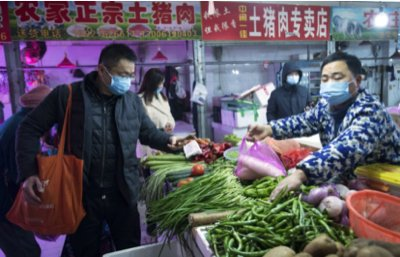mask: (319, 68, 356, 104), (107, 67, 136, 95), (286, 70, 300, 84), (157, 80, 165, 94)
